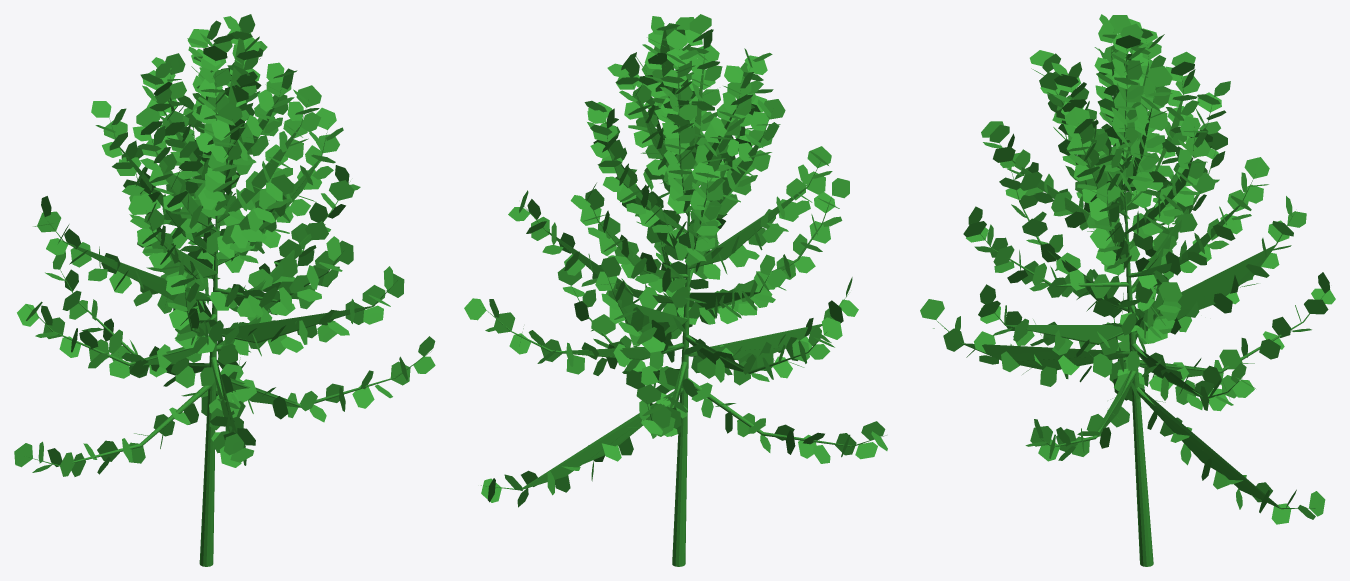
The model's file is 3DTree.dae.
3 views of the same model, side by side, from view 1: azimuth 30°, elevation 25°; view 2: azimuth 150°, elevation 25°; view 3: azimuth 270°, elevation 25° (orthographic). The views are drawn at different scales.
Parts seen in each view (by area): view 1: Cube; view 2: Cube; view 3: Cube.
Part boxes in pixels (x1,y1,x2,y2): Cube: (14,14,435,566); Cube: (464,14,887,566); Cube: (920,14,1335,566).
Size of the model in its own units: 9.36 by 8.91 by 12.92.
